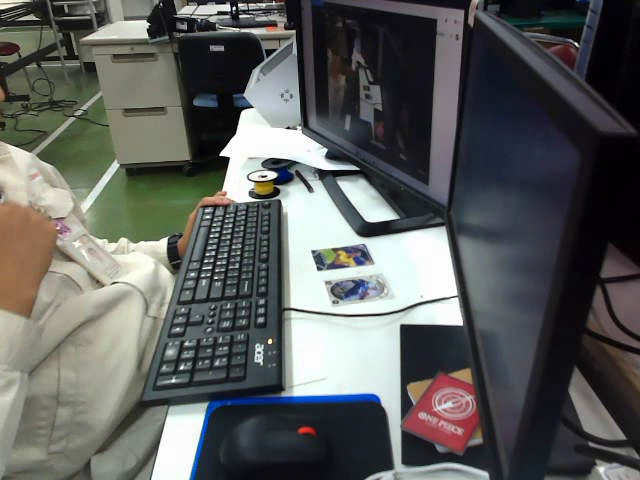can: (317, 274, 391, 303), (304, 240, 376, 268)
